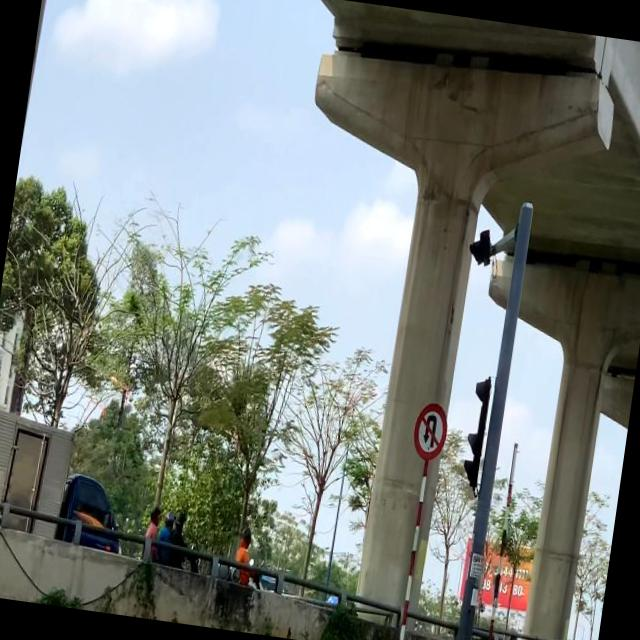P-124a1: (410, 398, 450, 462)
